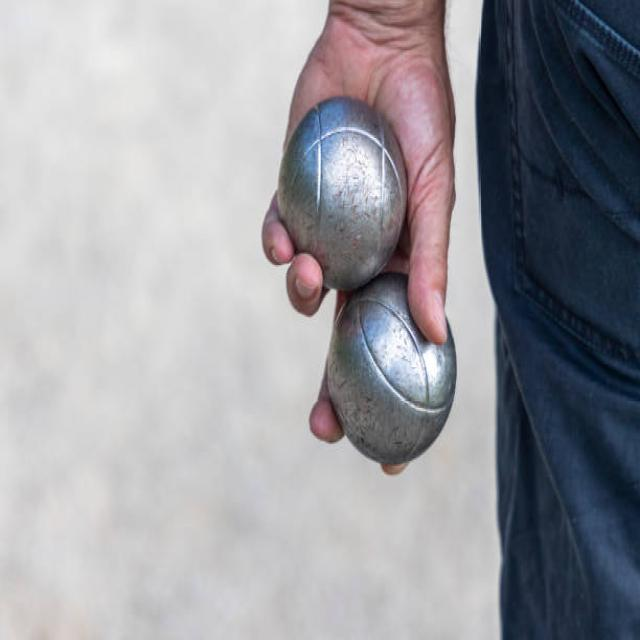petanque: (316, 264, 468, 475), (265, 94, 413, 291)
